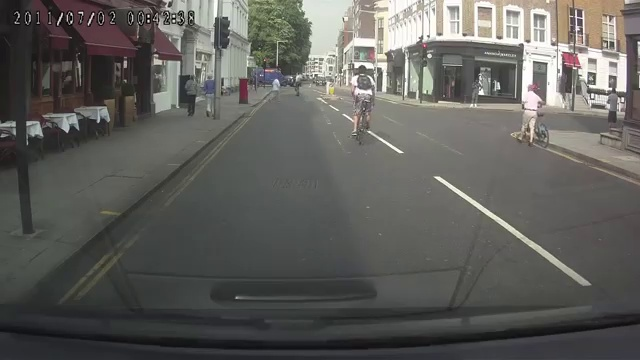cyclist_back: (515, 81, 556, 147), (347, 63, 378, 145)
